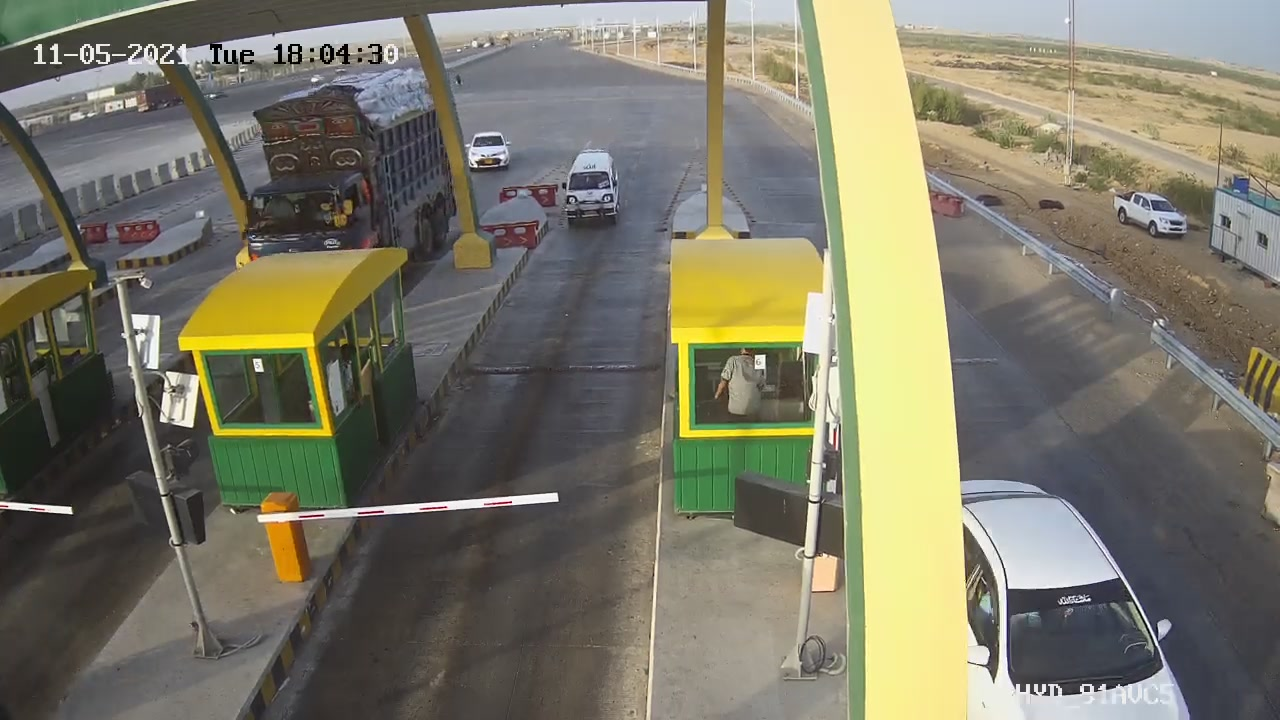F1: (549, 133, 637, 240)
